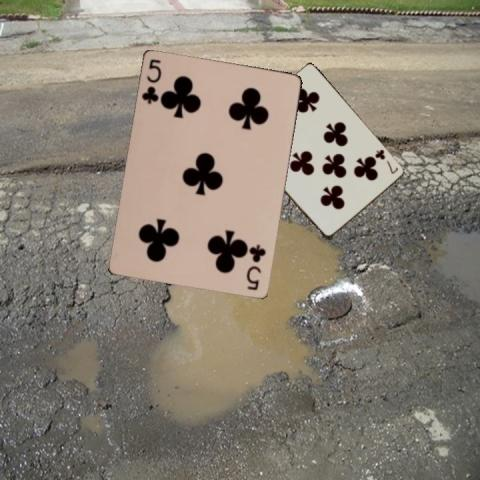5c: (139, 57, 163, 106), (244, 242, 267, 292)
7c: (372, 146, 400, 175)
